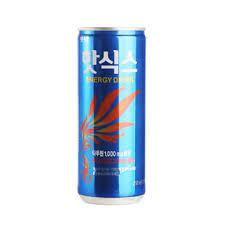hotsix_org: (76, 25, 153, 207)
